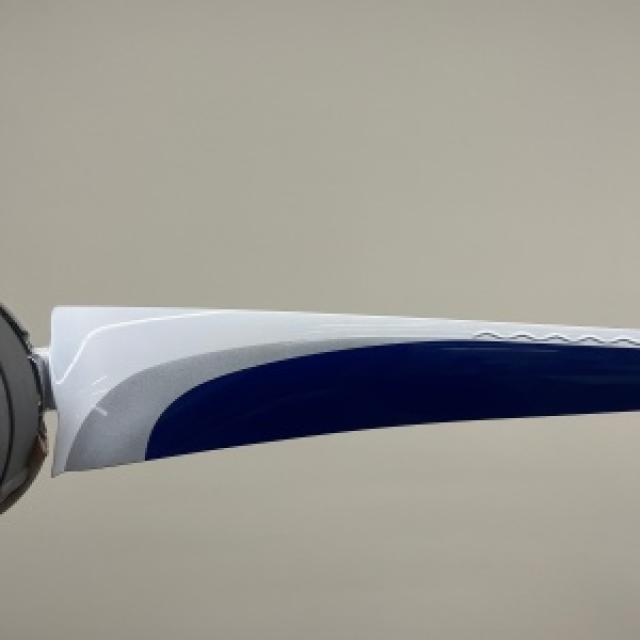healthy: (0, 305, 638, 506)
